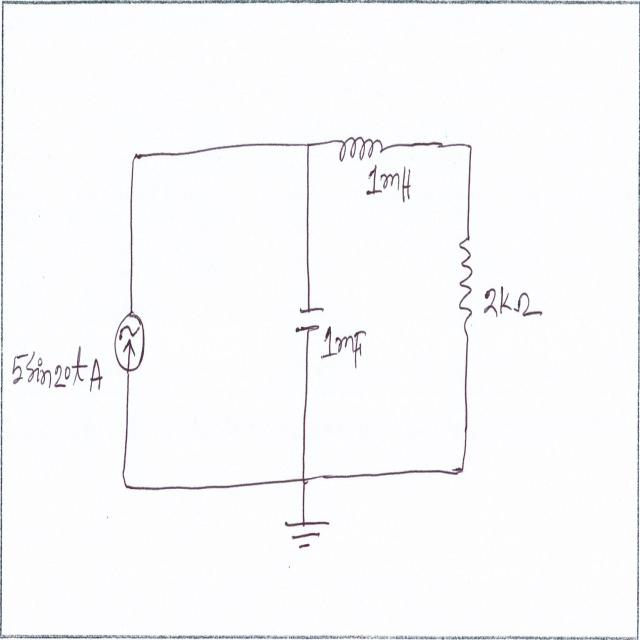capacitor: (292, 305, 326, 338)
current_source: (112, 304, 149, 378)
ground: (277, 516, 331, 554)
inductor: (336, 128, 389, 163)
resistor: (455, 234, 476, 340)
